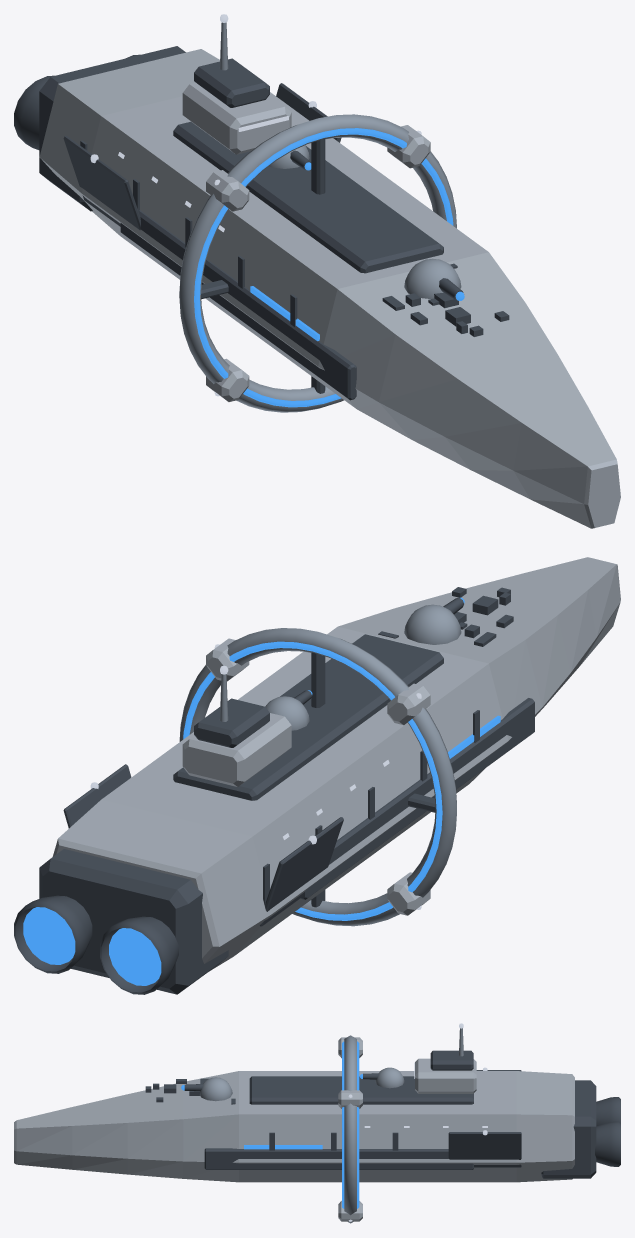
Rendered from guard.glb.
3 renders of one model, top to bottom at view 1: azimuth 30°, elevation 25°; view 2: azimuth 150°, elevation 25°; view 3: azimuth 270°, elevation 25°, orthographic. The views are drawn at different scales.
Visible parts, largest first — view 1: hull, hull2, trim, team_glow; view 2: hull, hull2, trim, team_glow; view 3: hull, hull2, trim, team_glow.
Part boxes in pixels (x1,y1,x2,y2): hull: (39,49,620,528); hull2: (14,46,509,400); trim: (179,22,461,412); team_glow: (194,128,464,407); hull: (52,557,620,971); hull2: (14,587,534,994); trim: (179,604,461,926); team_glow: (23,597,500,985); hull: (14,1037,574,1221); hull2: (145,1050,620,1178); trim: (200,1028,463,1223); team_glow: (181,1041,362,1208).
Bounding box in the file's own units: 3.36 × 3.76 × 10.82.
